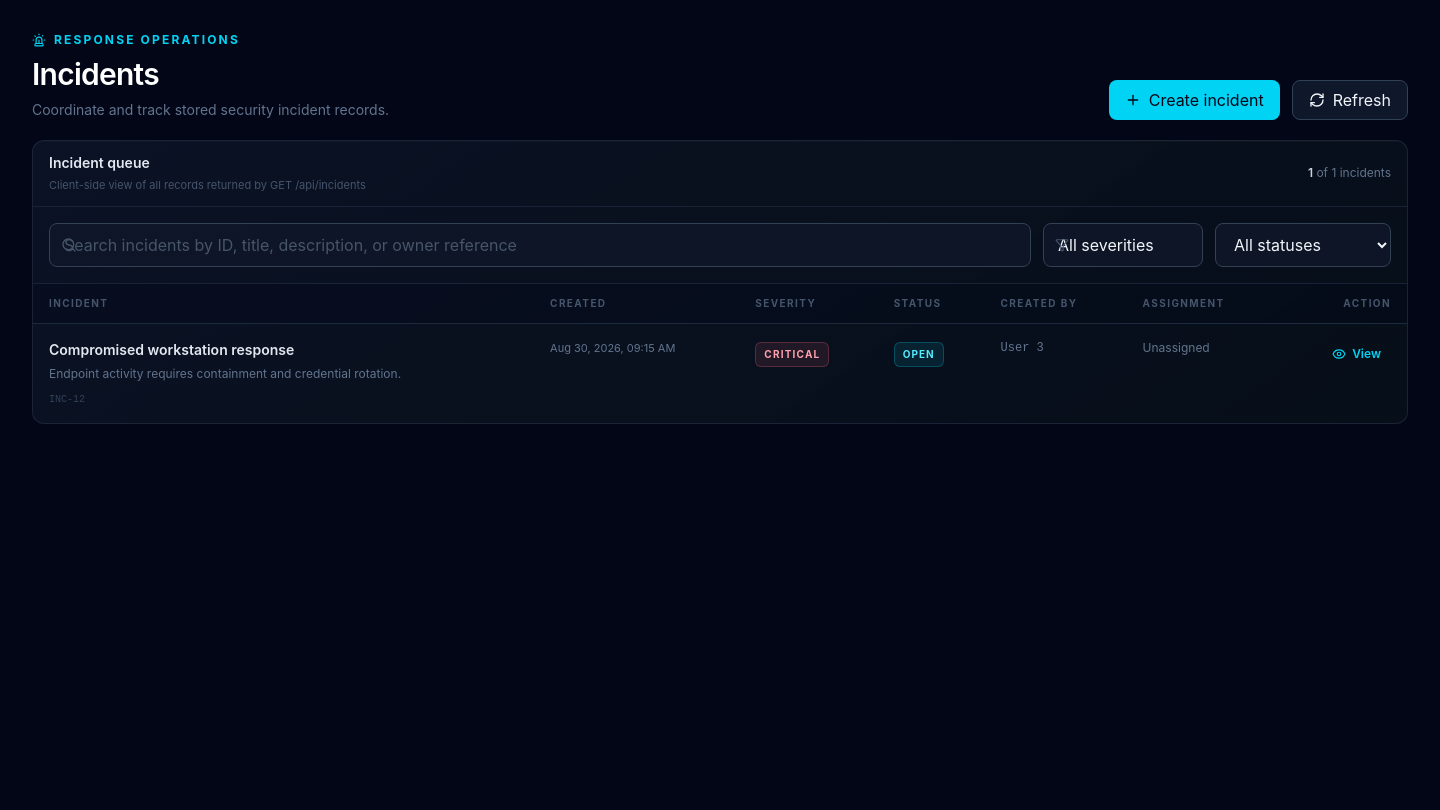
Test: IncidentsPage › opens detail data from the incident detail endpoint
Click the button with aria-label "Open incident 12".
click(172, 349)  # box [33,323,1407,422]
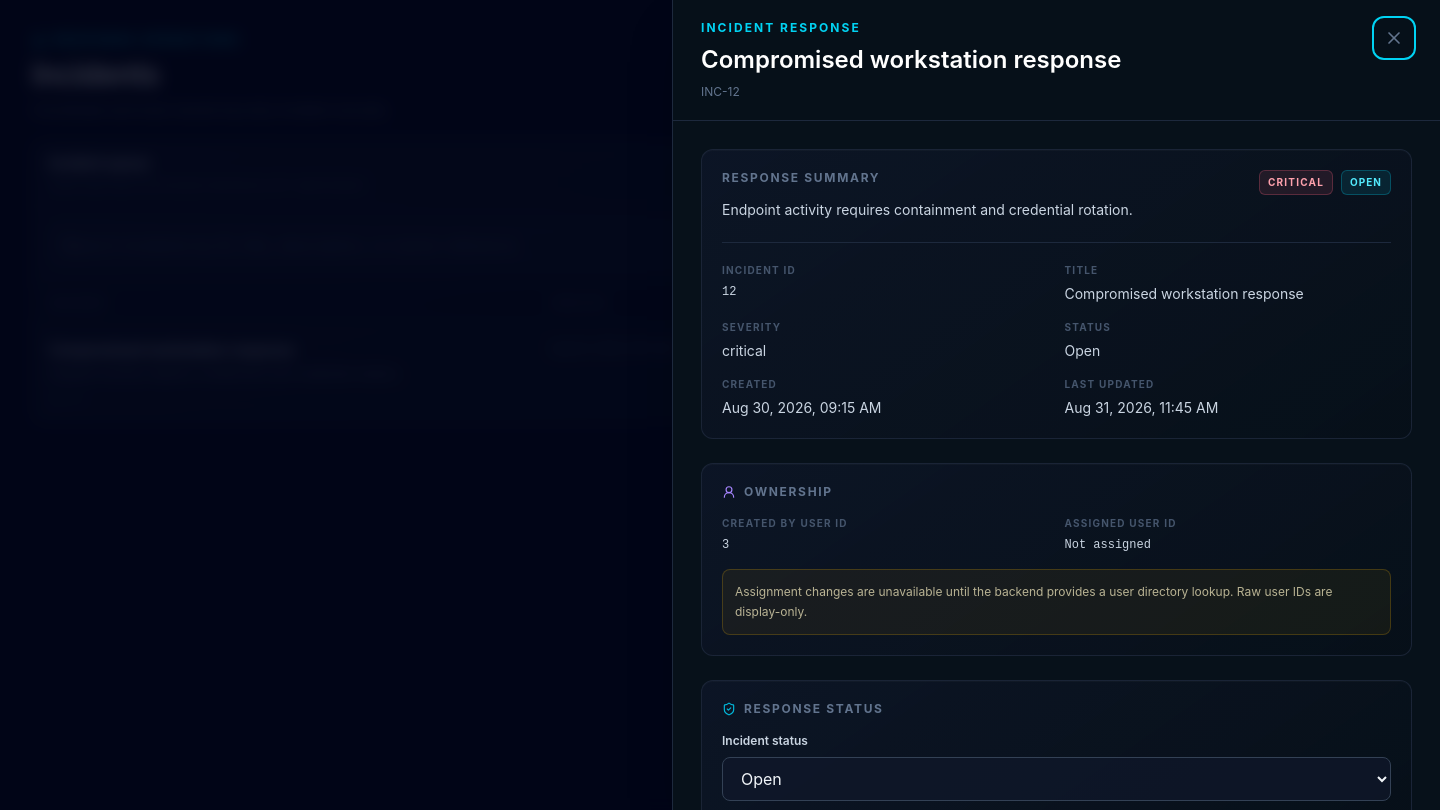
expect the dialog "Compromised workstation response" shows "INC-12": met, box [701,84,740,99]
expect the dialog "Compromised workstation response" shows "requires containment": met, box [722,201,1133,218]
expect the dialog "Compromised workstation response" shows "Created by user ID": met, box [722,517,848,529]
